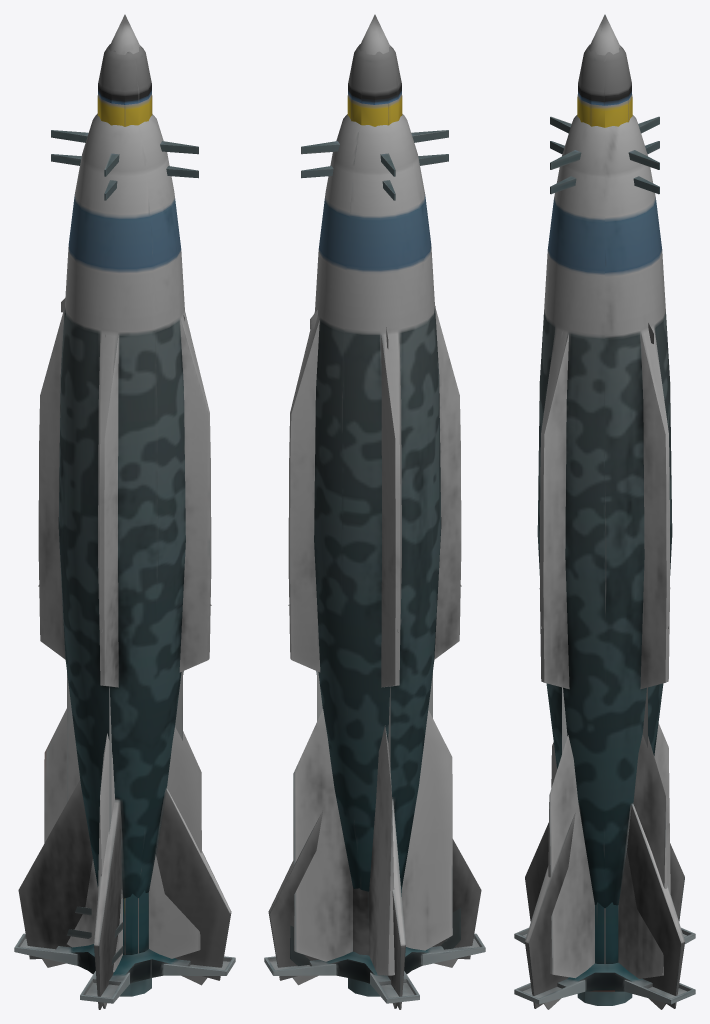
The model's file is Missiles.fbx.
3 renders of one model, left to right at view 1: azimuth 30°, elevation 25°; view 2: azimuth 150°, elevation 25°; view 3: azimuth 270°, elevation 25°, orthographic.
Parts seen in each view (by area): view 1: Missile-1, Missile-4, Missile-3, Missile-5, Missile-2; view 2: Missile-1, Missile-4, Missile-5, Missile-3, Missile-2; view 3: Missile-1, Missile-4, Missile-3, Missile-5, Missile-2.
Part boxes in pixels (box(x1,y1,x2,y2)): Missile-1: box(18, 113, 231, 1009); Missile-4: box(44, 298, 201, 972); Missile-3: box(14, 671, 235, 1003); Missile-5: box(51, 44, 198, 965); Missile-2: box(38, 14, 211, 1008); Missile-1: box(268, 114, 481, 1009); Missile-4: box(293, 306, 452, 975); Missile-5: box(290, 44, 460, 989); Missile-3: box(264, 671, 485, 1003); Missile-2: box(288, 14, 461, 1008); Missile-1: box(525, 115, 684, 1008); Missile-4: box(548, 322, 670, 978); Missile-3: box(514, 687, 695, 1005); Missile-5: box(550, 44, 659, 194); Missile-2: box(541, 14, 668, 1009).
Bounding box in the file's own units: 0.4307 × 2.57 × 0.4307.
Materials: 1 (1 with a texture image).
